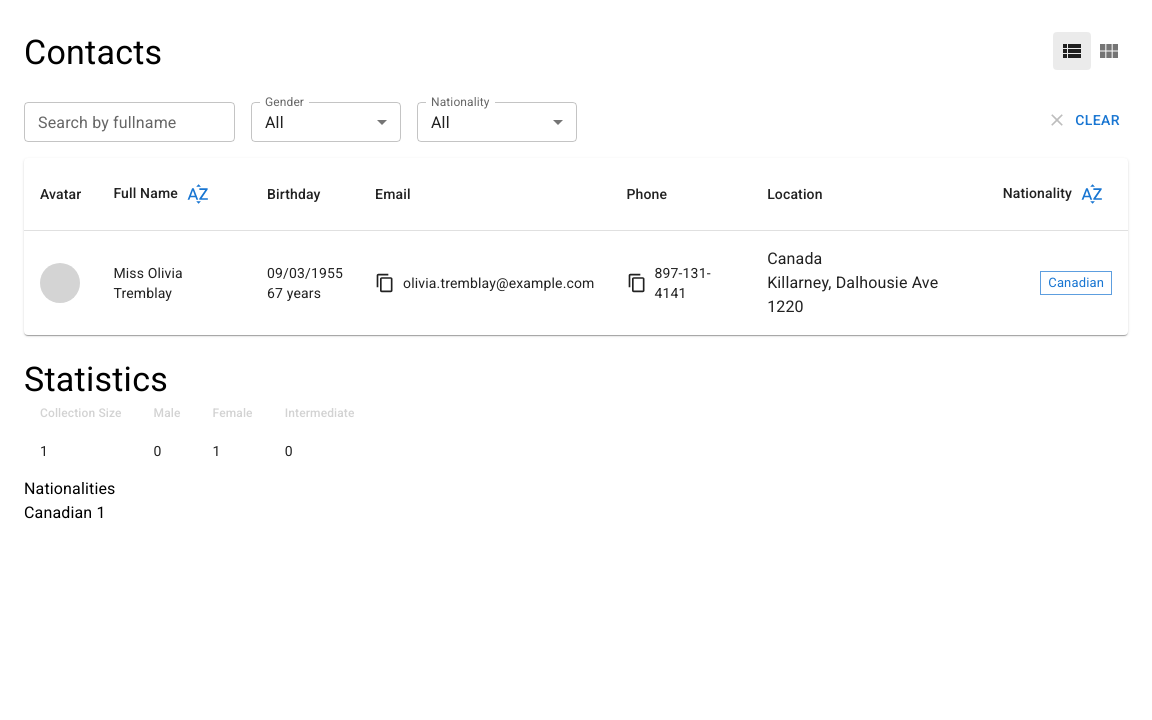
it: contacts data view mode › should equal grid
Click the button with test id "toggle-data-viewmode-grid". click: (1109,51)
box: [1090, 32, 1128, 70]
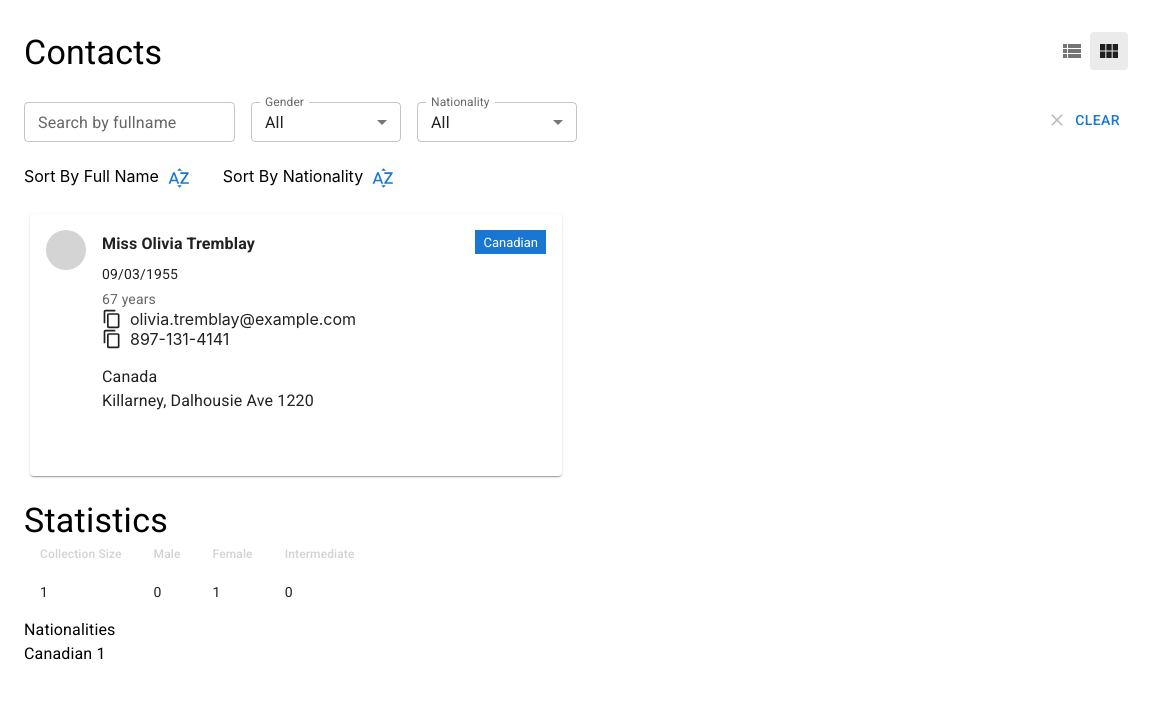
Expected: the element with test id "contacts-grid-container" is shown, [30, 214, 562, 476]
Result: the element with test id "contacts-table-container" is gone
